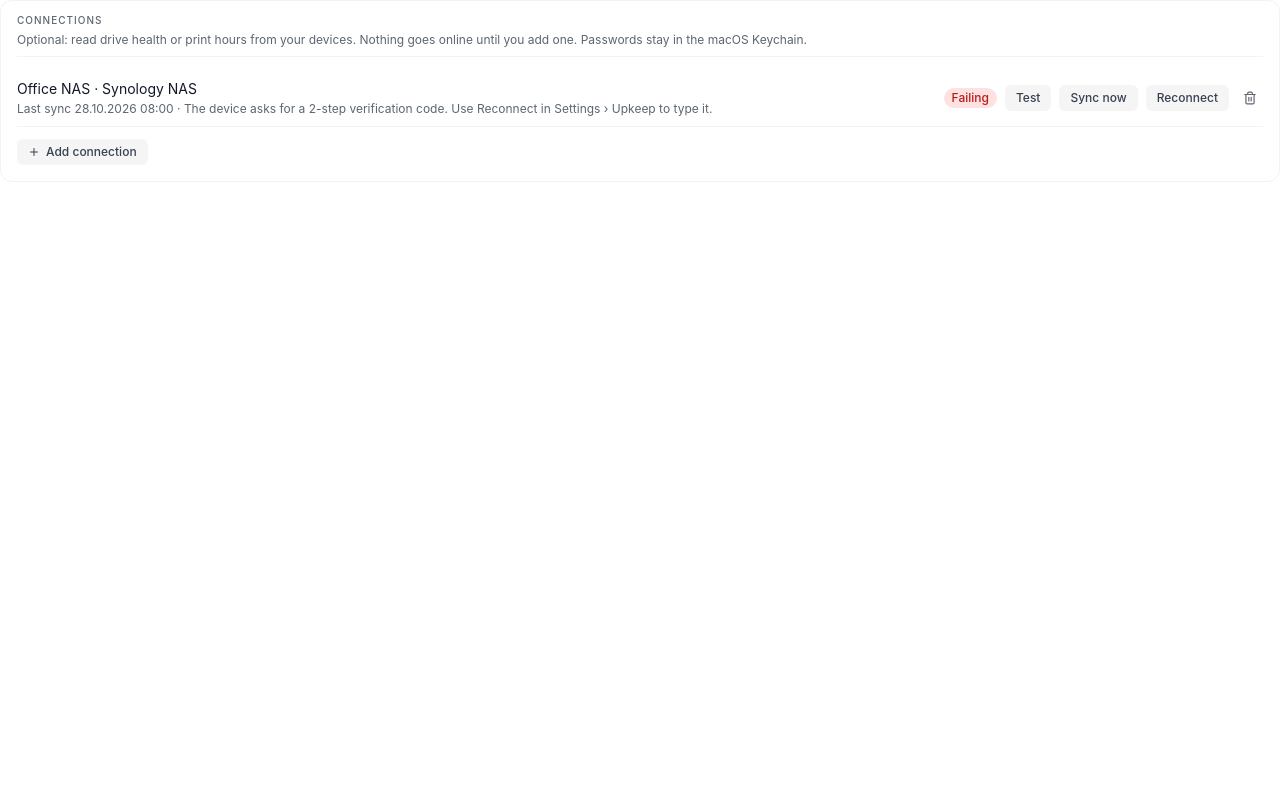
ConnectionsCard › shows a readable error and offers Reconnect on the same connection
Expected: the text "The device asks for " is shown, 17,101 -> 712,116
Click the button "Reconnect".
click(1187, 98)  # box 1146,84 -> 1229,110
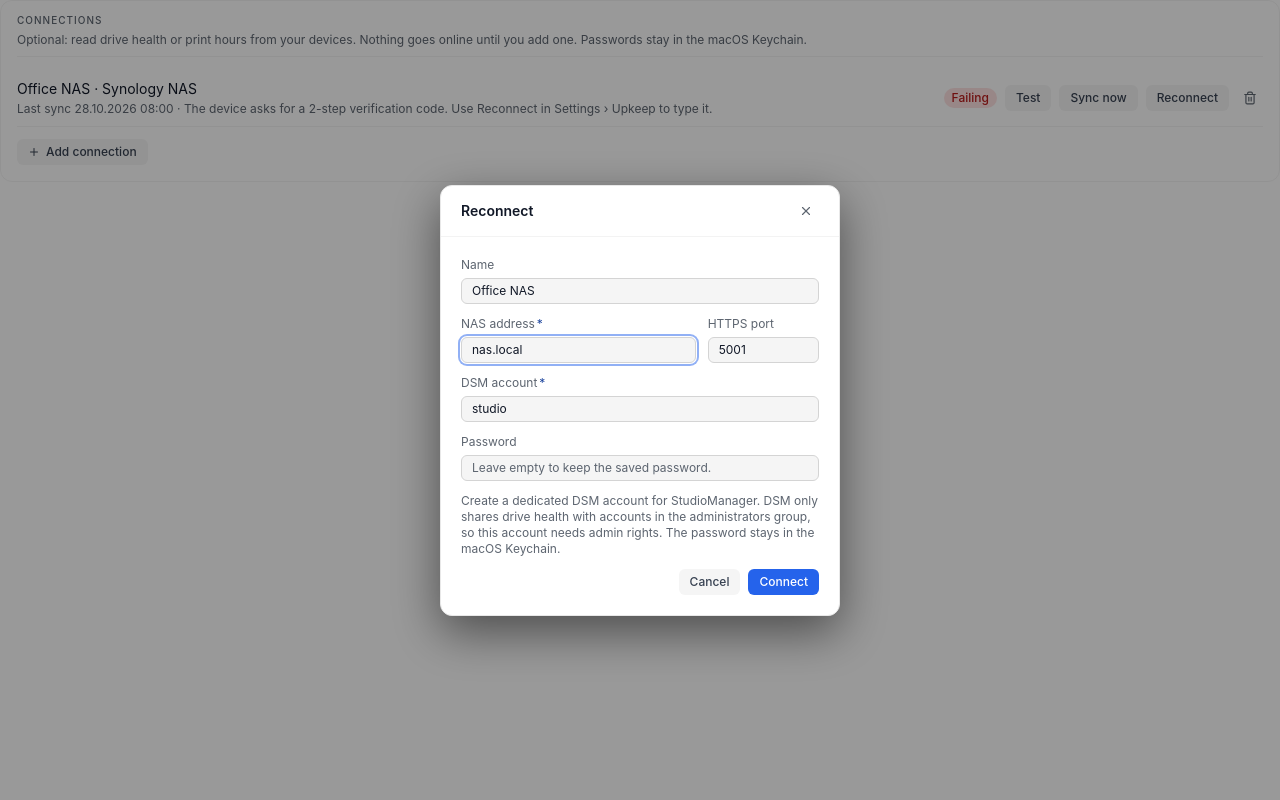
Result: the field showing "nas.local" is shown at 461,336 -> 696,362
